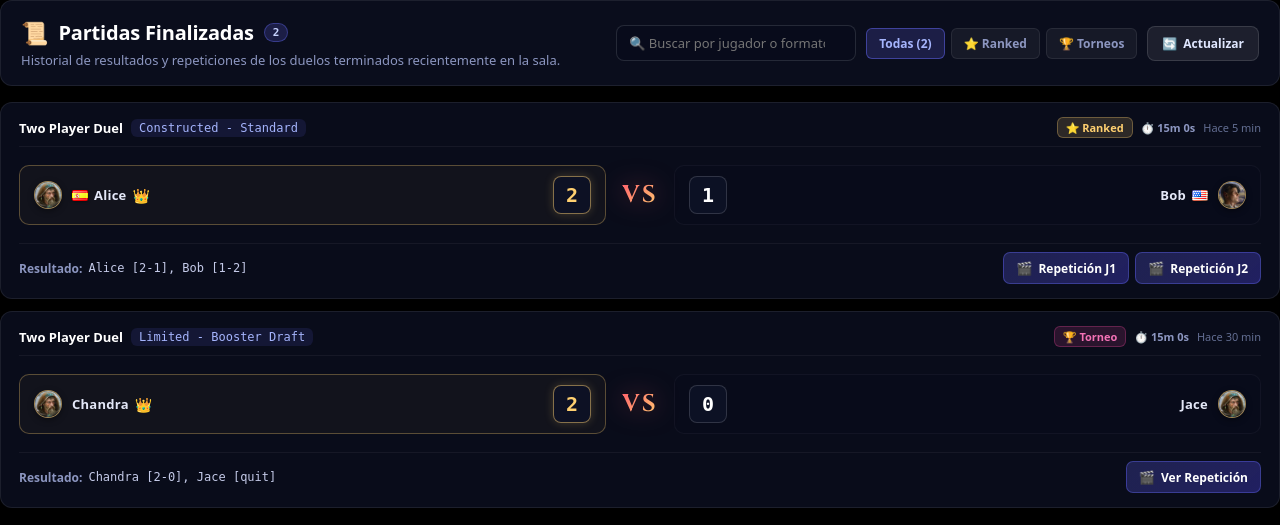
Scenario: FinishedMatchesPanel component › filters matches by filter chips (Ranked and Torneos)
Check: the text "Alice" is shown, box x1=94 y1=186 x2=127 y2=204
# Click Ranked filter chip (the button element)
Click the button "⭐ Ranked".
click(995, 43)  # box x1=951 y1=28 x2=1040 y2=58
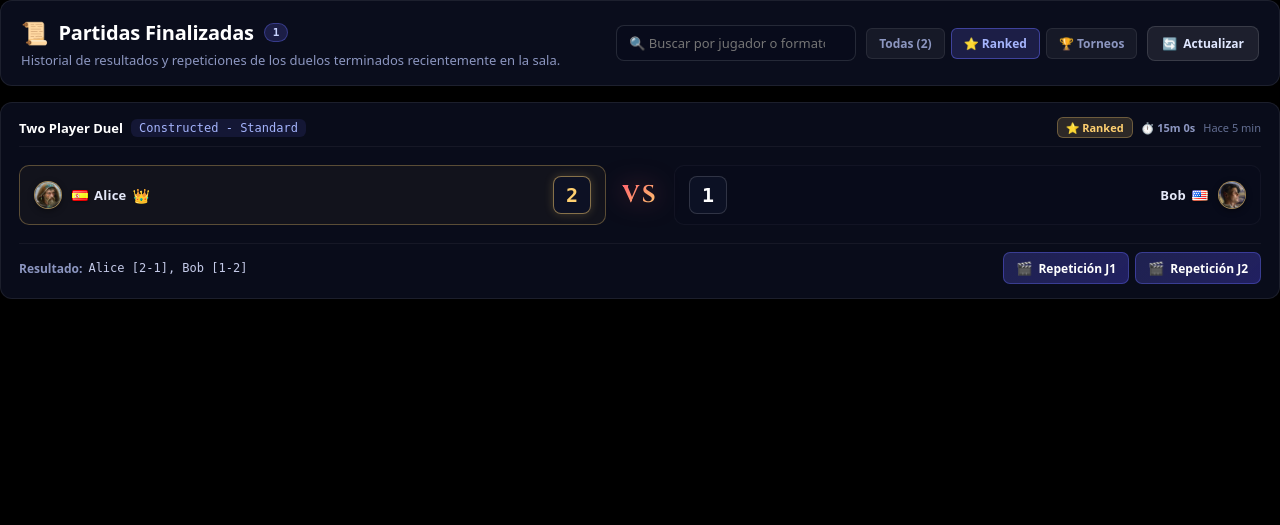
Check: the text "Alice" is shown, box x1=94 y1=186 x2=127 y2=204
Check: the text "Chandra" is gone
# Click Torneos filter chip (the button element)
Click the button "🏆 Torneos".
click(1092, 43)  # box x1=1046 y1=28 x2=1137 y2=58
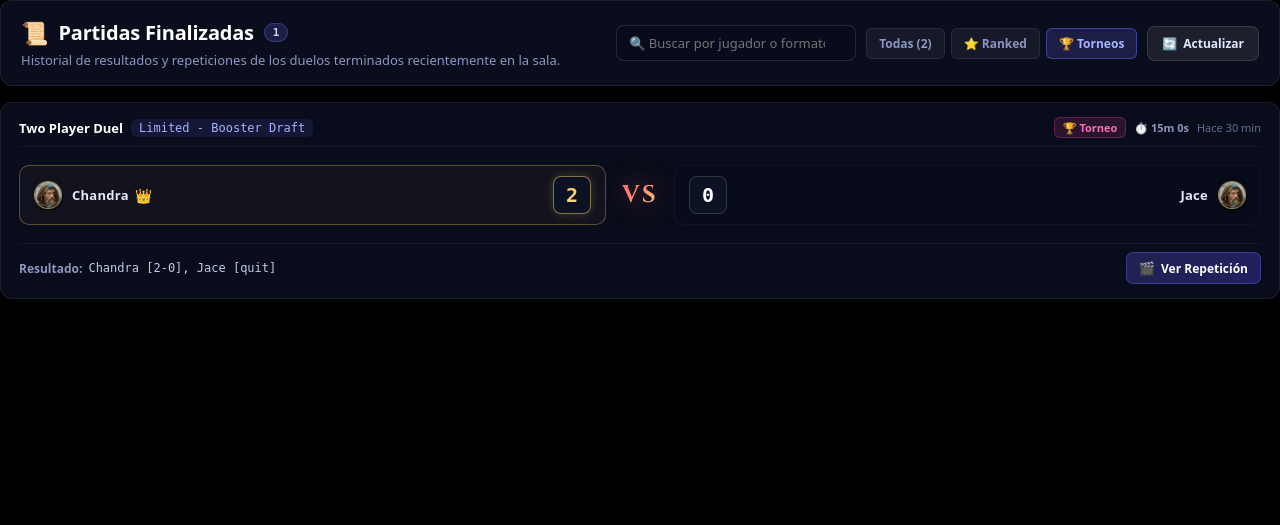
Check: the text "Chandra" is shown, box x1=72 y1=186 x2=129 y2=204
Check: the text "Alice" is gone
